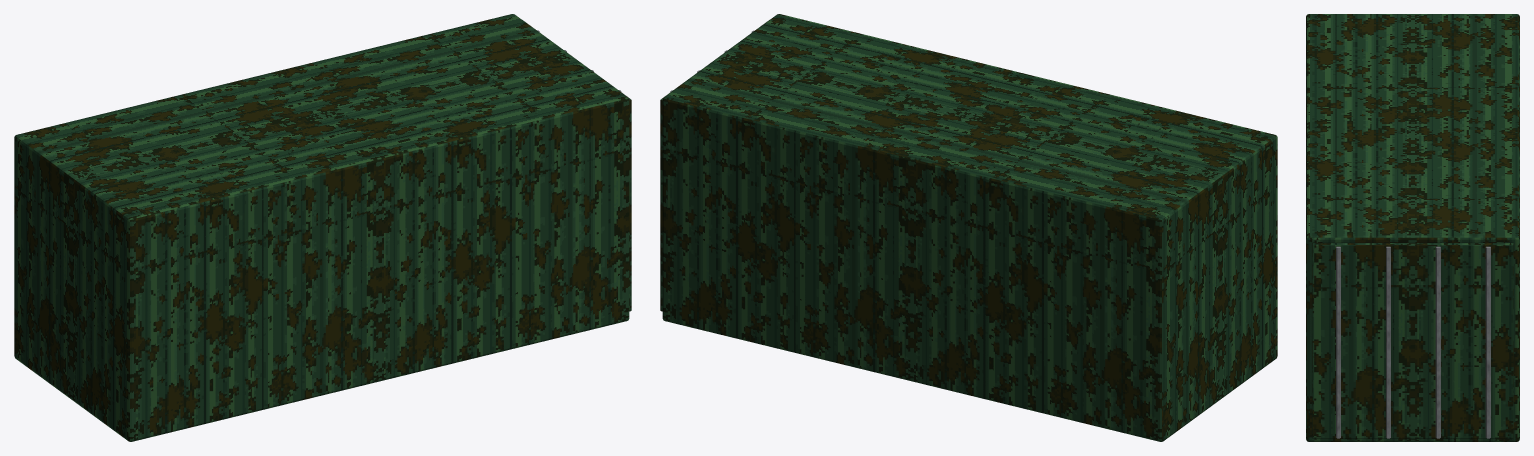
The model's file is city_container.glb.
3 views of the same model, side by side, from view 1: azimuth 30°, elevation 25°; view 2: azimuth 150°, elevation 25°; view 3: azimuth 270°, elevation 25° (orthographic). The views are drawn at different scales.
Parts seen in each view (by area): view 1: city_container; view 2: city_container; view 3: city_container.
Part boxes in pixels (<box>): city_container: <box>14,14,631,441</box>; city_container: <box>660,14,1277,441</box>; city_container: <box>1306,14,1519,441</box>.
Size of the model in its own units: 6.16 by 2.59 by 2.44.
2 materials, 2 textured.
